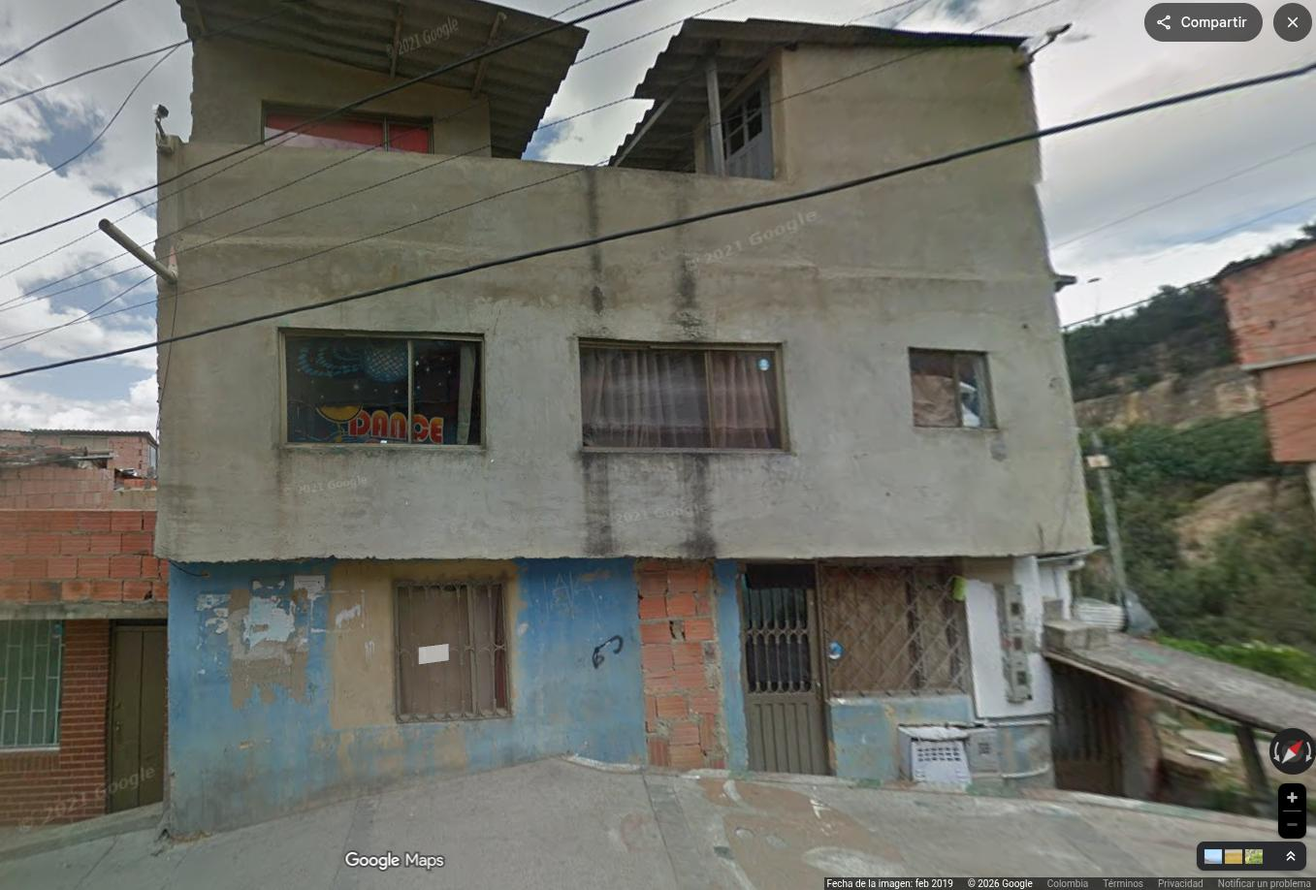casa: (152, 0, 1091, 832)
